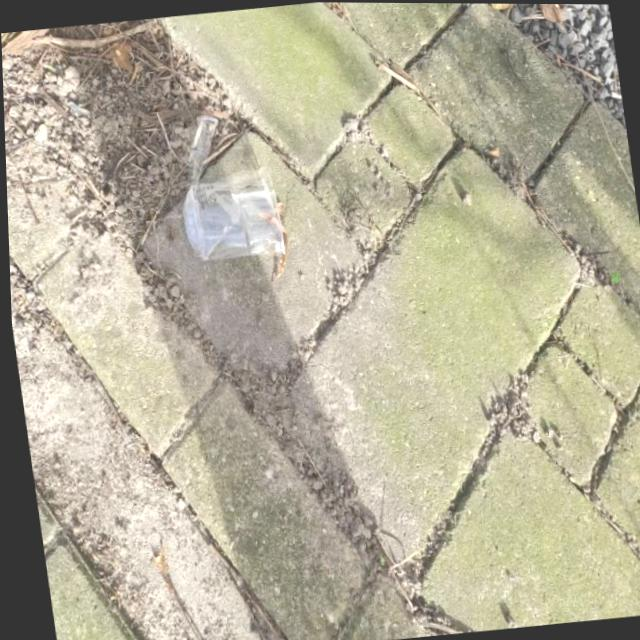Cup: (167, 115, 290, 261)
